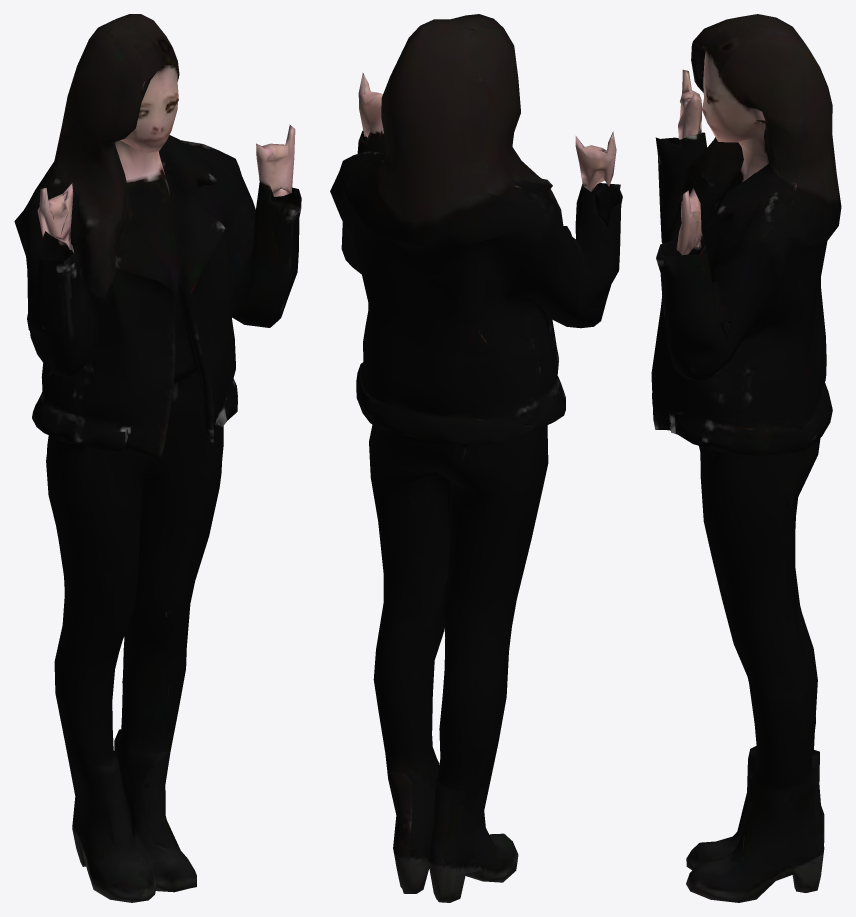
Rendered from fan-w-horns-s1.lo.glb.
The picture shows the model from 3 angles, left to right: view 1: azimuth 30°, elevation 25°; view 2: azimuth 150°, elevation 25°; view 3: azimuth 270°, elevation 25°; orthographic projection.
Parts seen in each view (by area): view 1: geometry_0; view 2: geometry_0; view 3: geometry_0.
Boxes of the visible parts, box(x1,y1,x2,y2) form: geometry_0: box(14, 14, 301, 902); geometry_0: box(330, 14, 622, 902); geometry_0: box(651, 14, 841, 902).
Bounding box in the file's own units: 0.3236 × 0.9997 × 0.2003.
Materials: 1 (1 with a texture image).
